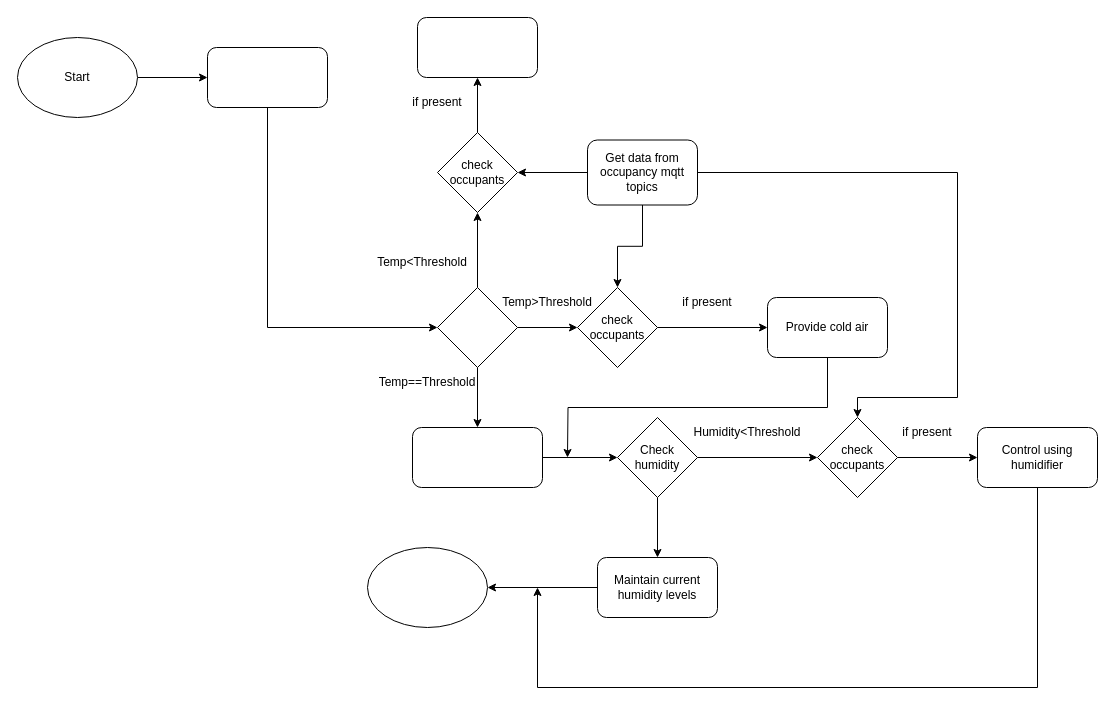
The diagram is 1115 pixels wide and 713 high, and some of its shapes have lost their labels. Here are the shapes that lost their labels. From the top down, the centre of each, then its label:
[477,47]: Provide hot air
[267,77]: Get data from thermostat and humidity mqtt topics
[477,327]: Check temperature
[477,457]: Maintain current temperature levels
[427,587]: End
